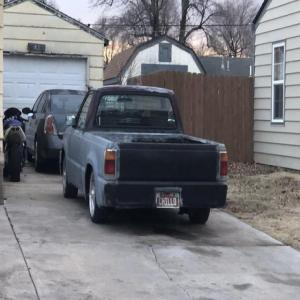Plate: (156, 191, 180, 209)
